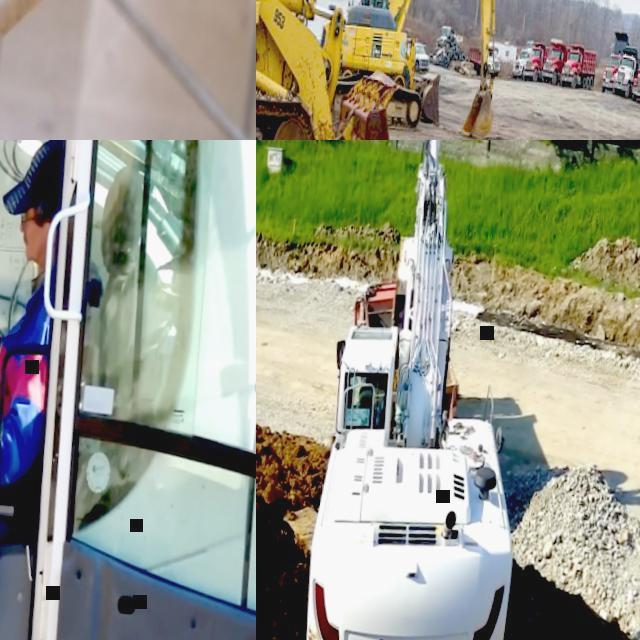helmet: (412, 38, 414, 42)
machinery: (293, 140, 561, 640), (0, 140, 256, 640), (256, 0, 458, 140), (313, 0, 515, 139), (600, 29, 631, 94), (560, 41, 598, 90), (612, 43, 640, 99), (542, 36, 572, 86), (467, 41, 502, 78), (522, 41, 552, 82), (512, 37, 535, 78), (435, 24, 464, 54), (631, 51, 640, 100)
no_helmet: (19, 140, 69, 219)
no_mask: (21, 227, 47, 258)
person: (0, 140, 77, 640), (407, 37, 418, 78)
vehicle: (403, 35, 431, 71)
vest: (0, 294, 55, 507), (410, 45, 416, 60)
